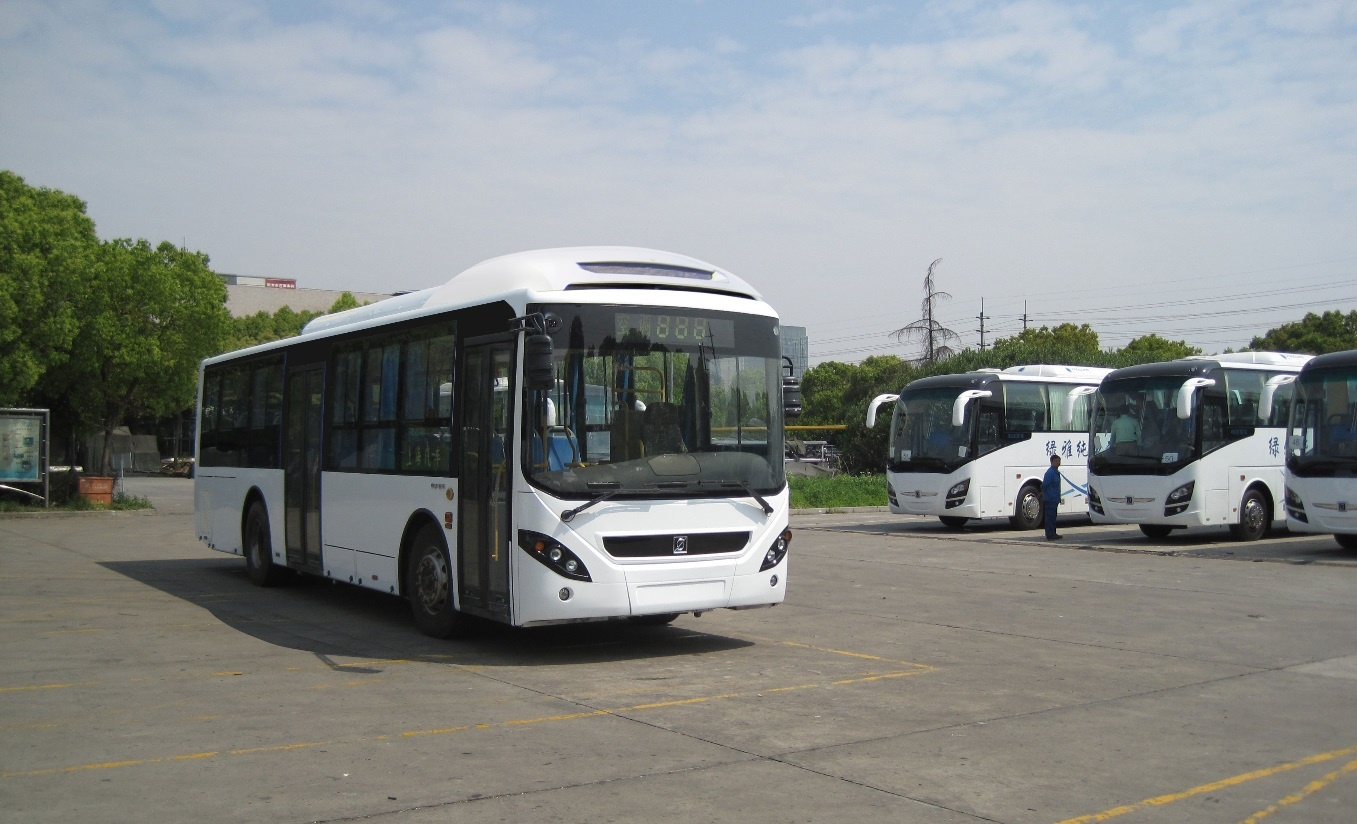bus: (184, 257, 800, 673)
